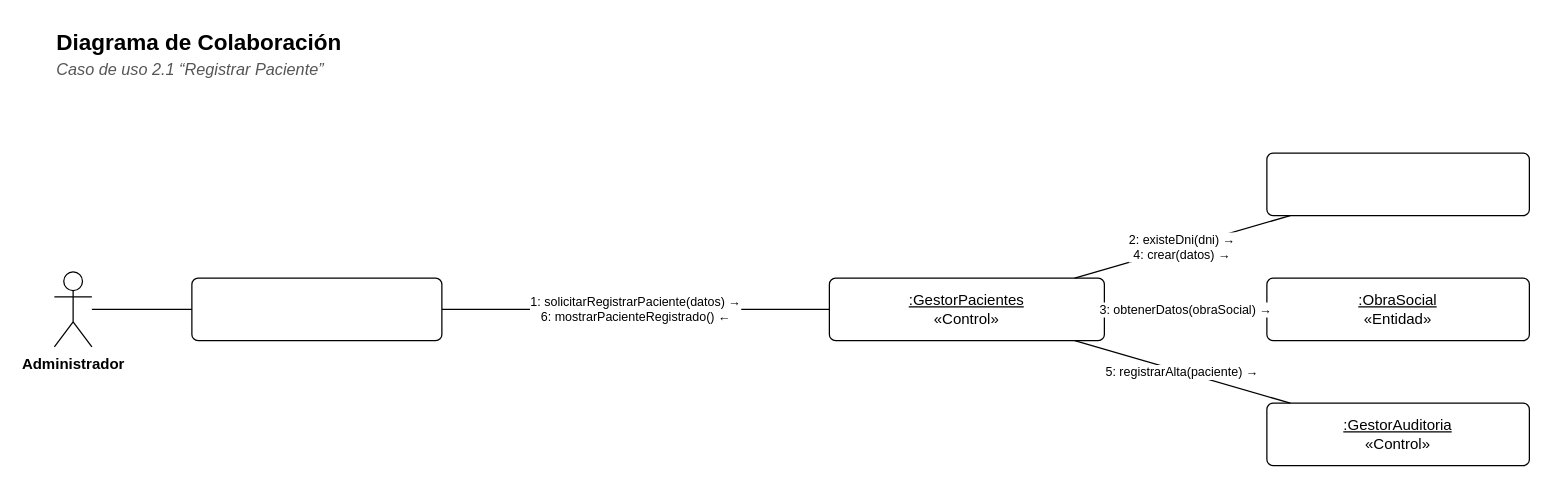
Image size: 1551x488. Some labels were removed from this diagram. Each missing label, with the box of its shape:
:Paciente «Entidad»: (1266, 152, 1529, 216)
:UI Pacientes «Interfaz»: (191, 277, 442, 341)
